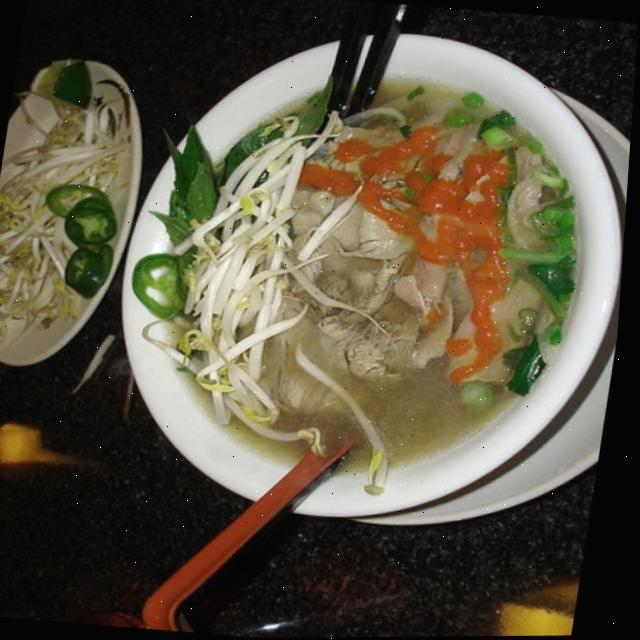面条主食: (122, 41, 617, 516)
